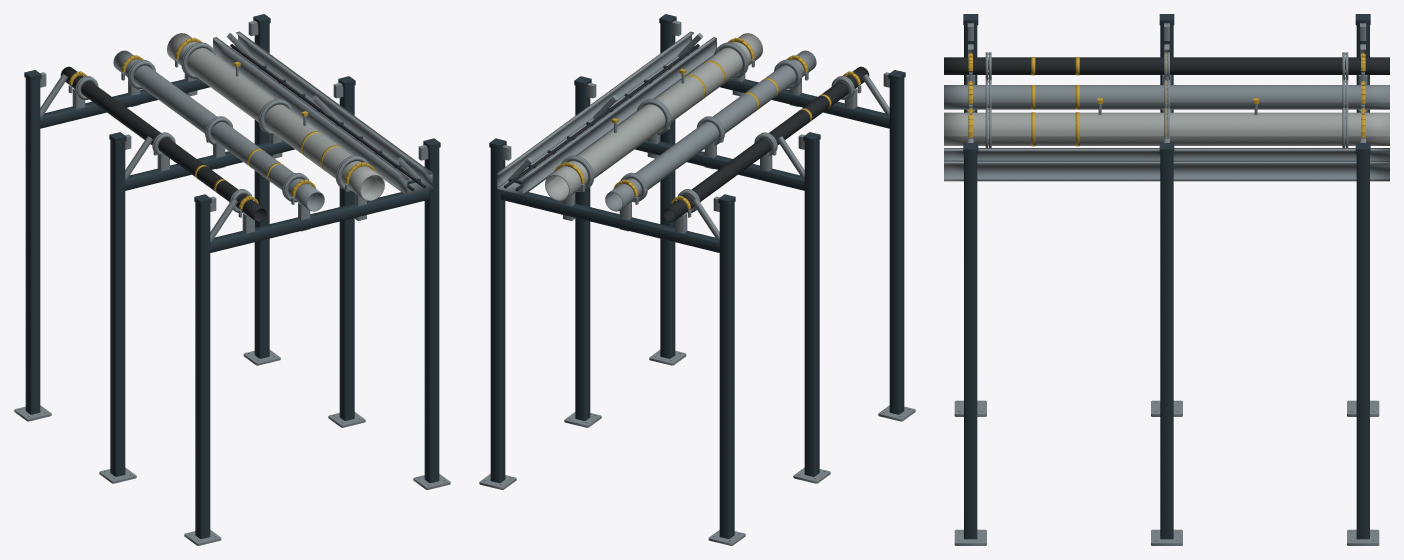
3 views of the same model, side by side, from view 1: azimuth 30°, elevation 25°; view 2: azimuth 150°, elevation 25°; view 3: azimuth 270°, elevation 25° (orthographic). The views are drawn at different scales.
Visible parts, largest first — view 1: VIS_Portal_posts_coated_steel, VIS_Pipe_3_DN300_stainless, VIS_Portal_crossbeam_coated_steel, VIS_Pipe_2_DN220_galvanized, VIS_Tray_walls_galvanized, VIS_Pipe_1_DN160_rubber, VIS_Tray_lips_galvanized, VIS_Anchor_plates_galvanized, VIS_Knee_braces_galvanized, VIS_Pipe_saddles_galvanized, VIS_Flange_3_galvanized, VIS_Post_cap_coated_steel (+6 smaller); view 2: VIS_Portal_posts_coated_steel, VIS_Pipe_3_DN300_stainless, VIS_Portal_crossbeam_coated_steel, VIS_Pipe_2_DN220_galvanized, VIS_Tray_walls_galvanized, VIS_Pipe_1_DN160_rubber, VIS_Tray_lips_galvanized, VIS_Anchor_plates_galvanized, VIS_Knee_braces_galvanized, VIS_Pipe_saddles_galvanized, VIS_Flange_3_galvanized, VIS_Post_cap_coated_steel (+6 smaller); view 3: VIS_Portal_posts_coated_steel, VIS_Pipe_3_DN300_stainless, VIS_Tray_walls_galvanized, VIS_Pipe_2_DN220_galvanized, VIS_Pipe_1_DN160_rubber, VIS_Tray_lips_galvanized, VIS_Anchor_plates_galvanized, VIS_Cable_tray_galvanized, VIS_Post_cap_coated_steel, VIS_Pipe_straps_safety_yellow, VIS_Flange_3_galvanized, VIS_Flange_2_galvanized (+1 smaller).
Part boxes in pixels (x1,y1,x2,y2): VIS_Portal_posts_coated_steel: (25, 23, 439, 538); VIS_Pipe_3_DN300_stainless: (167, 33, 384, 201); VIS_Portal_crossbeam_coated_steel: (40, 78, 429, 252); VIS_Pipe_2_DN220_galvanized: (113, 50, 324, 211); VIS_Tray_walls_galvanized: (213, 35, 432, 193); VIS_Pipe_1_DN160_rubber: (60, 66, 266, 222); VIS_Tray_lips_galvanized: (213, 31, 432, 180); VIS_Anchor_plates_galvanized: (14, 350, 450, 545); VIS_Knee_braces_galvanized: (40, 33, 421, 241); VIS_Pipe_saddles_galvanized: (72, 73, 366, 233); VIS_Flange_3_galvanized: (181, 42, 369, 191); VIS_Post_cap_coated_steel: (24, 14, 440, 205); VIS_Portal_posts_coated_steel: (490, 23, 904, 538); VIS_Pipe_3_DN300_stainless: (545, 33, 762, 201); VIS_Portal_crossbeam_coated_steel: (500, 78, 889, 252); VIS_Pipe_2_DN220_galvanized: (605, 50, 816, 211); VIS_Tray_walls_galvanized: (497, 32, 716, 193); VIS_Pipe_1_DN160_rubber: (663, 66, 869, 222); VIS_Tray_lips_galvanized: (497, 31, 716, 180); VIS_Anchor_plates_galvanized: (479, 350, 915, 545); VIS_Knee_braces_galvanized: (508, 33, 889, 241); VIS_Pipe_saddles_galvanized: (563, 73, 857, 233); VIS_Flange_3_galvanized: (560, 42, 748, 191); VIS_Post_cap_coated_steel: (489, 14, 905, 205); VIS_Portal_posts_coated_steel: (964, 25, 1369, 539); VIS_Pipe_3_DN300_stainless: (944, 112, 1389, 145); VIS_Tray_walls_galvanized: (944, 151, 1389, 179); VIS_Pipe_2_DN220_galvanized: (944, 85, 1389, 109); VIS_Pipe_1_DN160_rubber: (944, 57, 1389, 74); VIS_Tray_lips_galvanized: (944, 148, 1389, 164); VIS_Anchor_plates_galvanized: (954, 400, 1379, 545); VIS_Cable_tray_galvanized: (944, 179, 1389, 181); VIS_Post_cap_coated_steel: (963, 14, 1370, 154); VIS_Pipe_straps_safety_yellow: (968, 53, 1365, 137); VIS_Flange_3_galvanized: (985, 107, 1348, 147); VIS_Flange_2_galvanized: (985, 80, 1348, 107).
Size of the model in its own units: 3.03 by 3.96 by 4.
5 materials, 5 textured.
